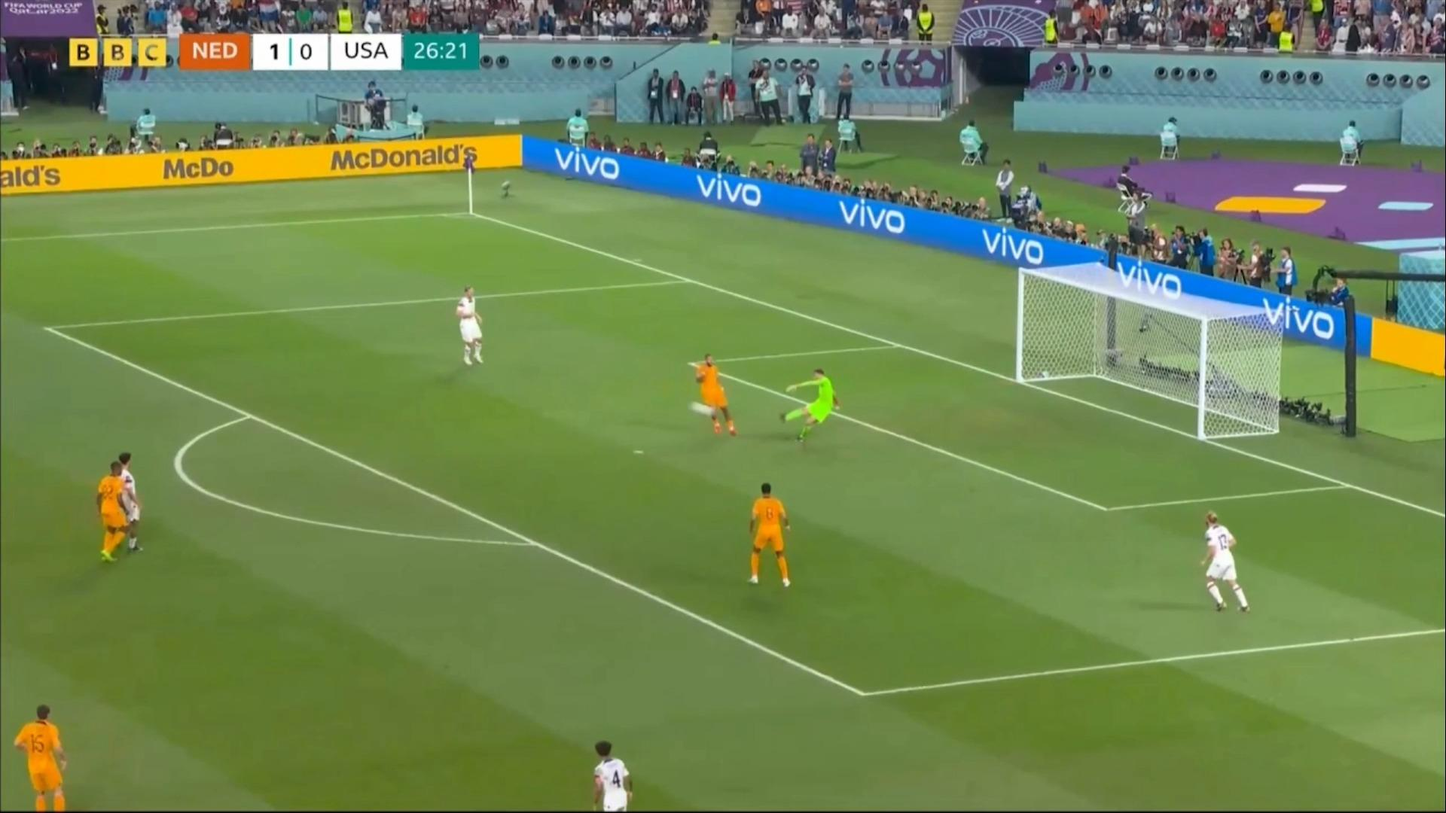Ball: (690, 402, 714, 418)
Player: (7, 705, 75, 810), (739, 479, 800, 591), (1193, 508, 1253, 615), (681, 352, 738, 439), (779, 368, 840, 446), (94, 463, 137, 565), (585, 738, 641, 813), (447, 283, 489, 375), (115, 451, 144, 555)
